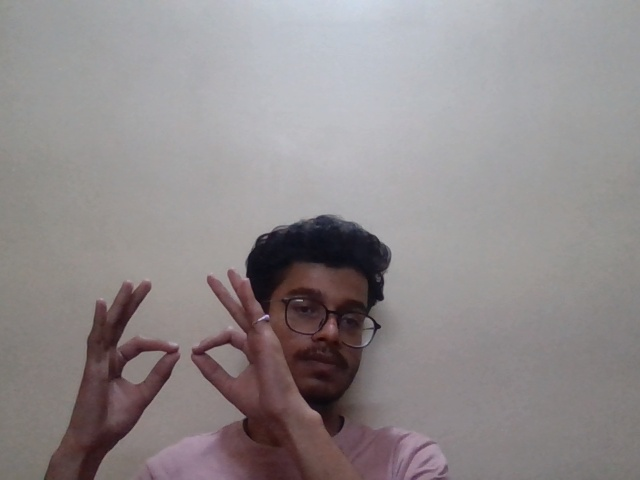nice: (67, 264, 303, 445)
